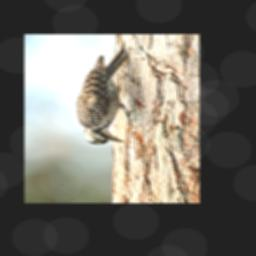Woodpecker: (75, 41, 137, 147)
